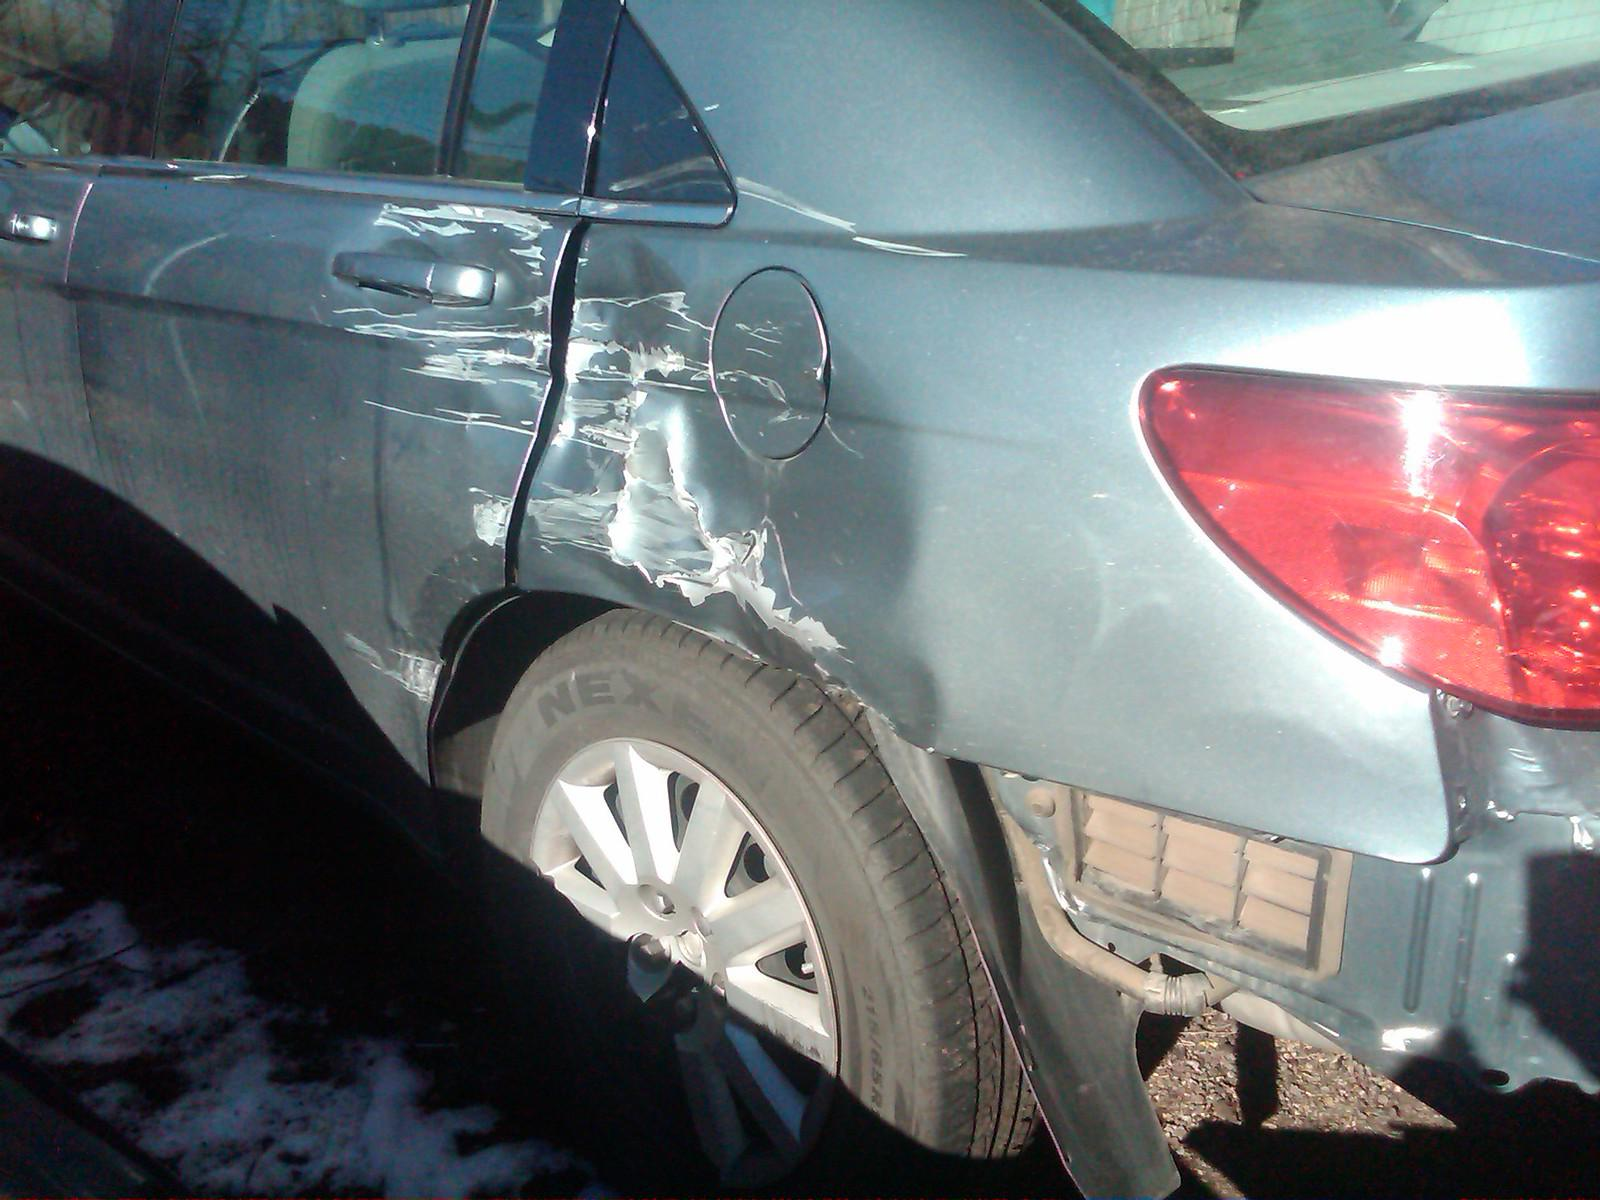doorouter-dent: (128, 160, 560, 666)
quaterpanel-dent: (555, 200, 1167, 620)
